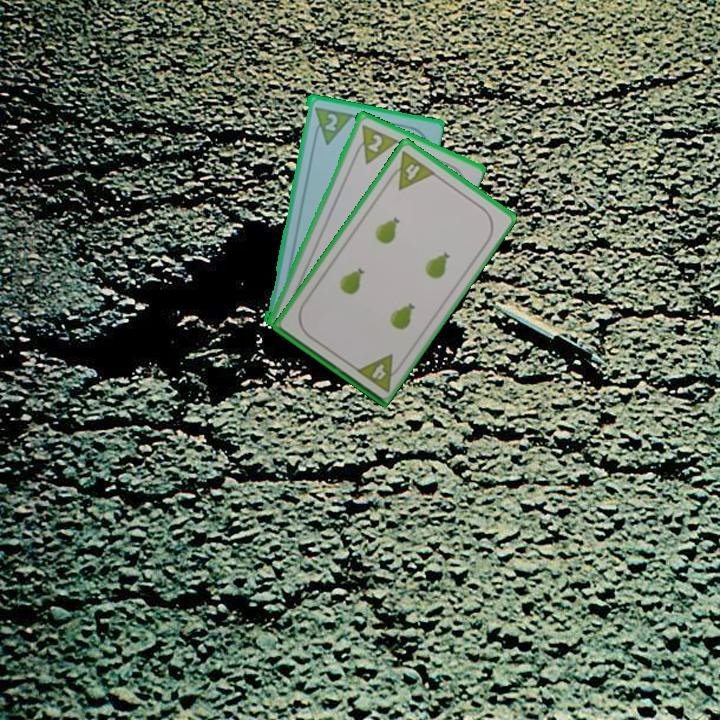2p: (349, 120, 399, 167), (320, 109, 340, 134)
4p: (384, 147, 438, 193), (352, 351, 406, 395)
